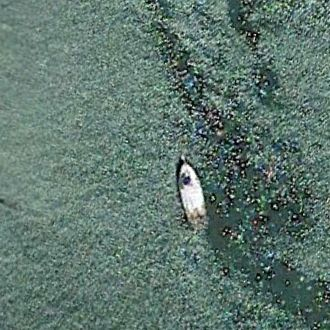boat: (173, 159, 209, 229)
